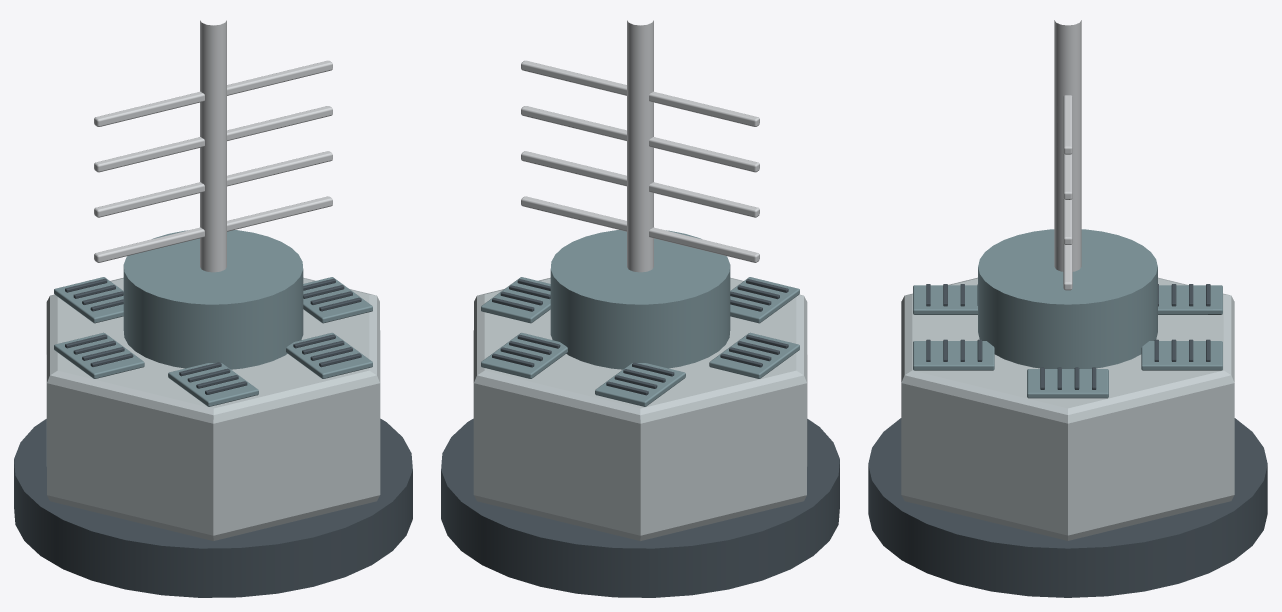
3 renders of one model, left to right at view 1: azimuth 30°, elevation 25°; view 2: azimuth 150°, elevation 25°; view 3: azimuth 270°, elevation 25°, orthographic.
Parts seen in each view (by area): view 1: listening-post; view 2: listening-post; view 3: listening-post.
Boxes of the visible parts, box(x1,y1,x2,y2) form: listening-post: box(14, 20, 412, 597); listening-post: box(441, 20, 839, 597); listening-post: box(868, 20, 1267, 597).
Size of the model in its own units: 4.4 by 6 by 4.4.
